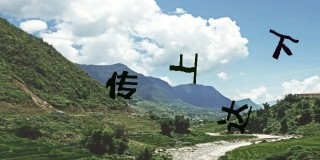上: (169, 52, 198, 83)
下: (269, 29, 299, 60)
传: (104, 70, 138, 101)
达: (216, 99, 253, 135)
